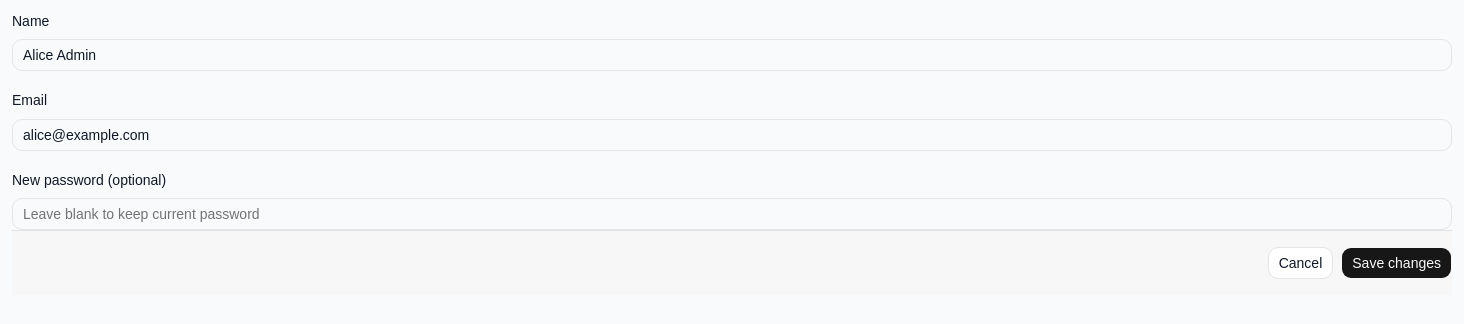
Test: UserForm — edit mode › rejects a new password shorter than 6 characters
The width and height of the screenshot is (1464, 324).
Type "abc" into the password field labelled "New password (optional)".
click(732, 214); type("abc")  # box [12,198,1452,230]
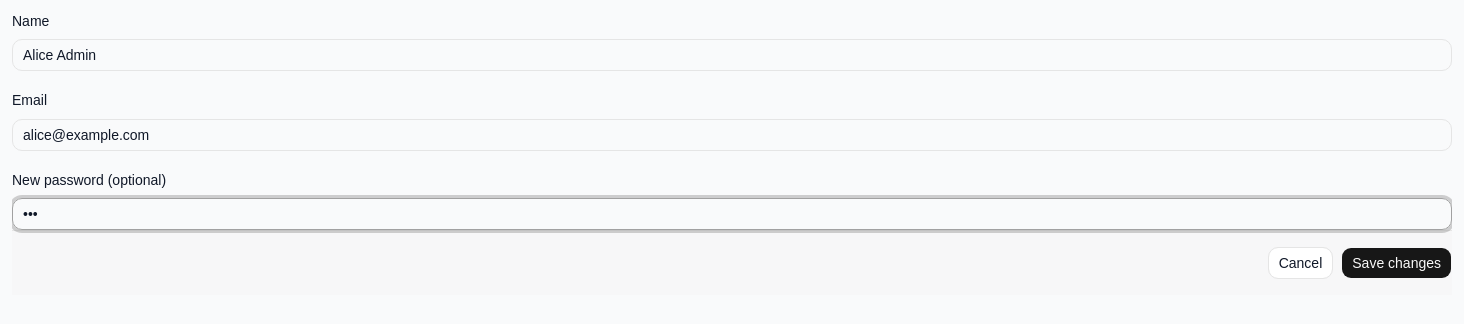
Click the button "Save changes".
click(1397, 263)  # box [1341,247,1452,279]
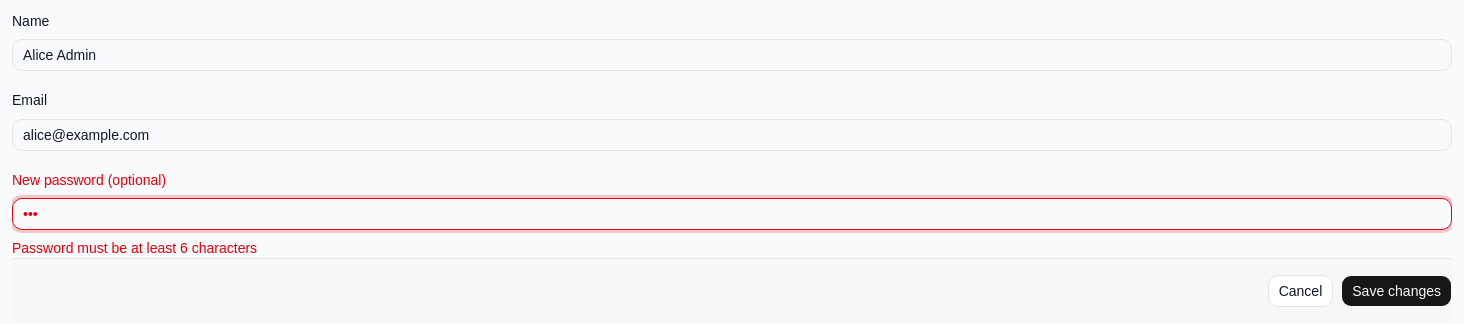
Check: the text "Password must be at least 6 characters" is shown, box [12,240,257,256]
